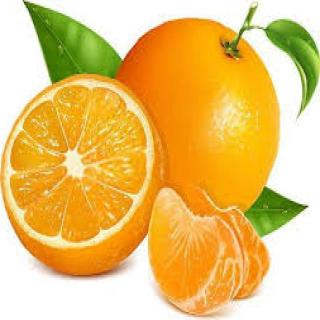orange: (93, 8, 294, 235), (0, 68, 174, 273), (145, 185, 271, 319)
